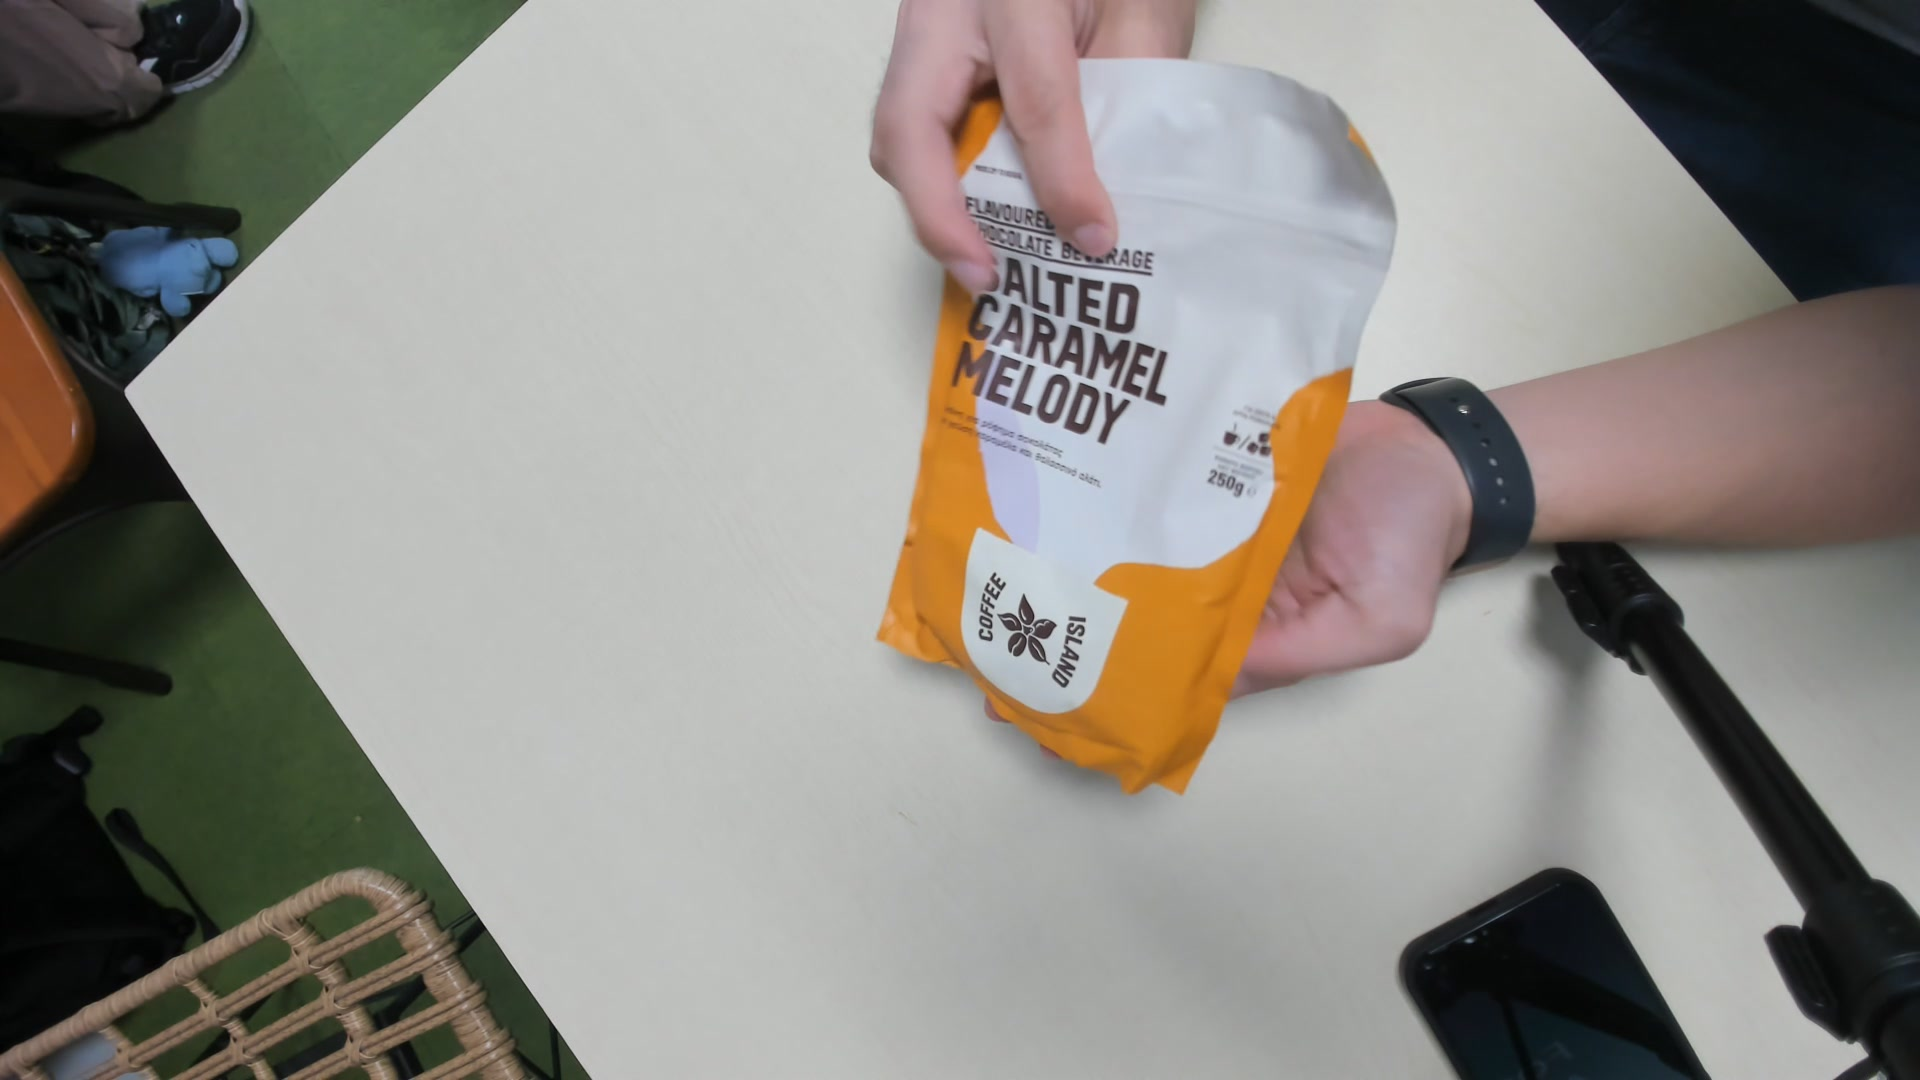Coffee_200-299g_NonHalal_NonHealthy: (872, 55, 1378, 777)
